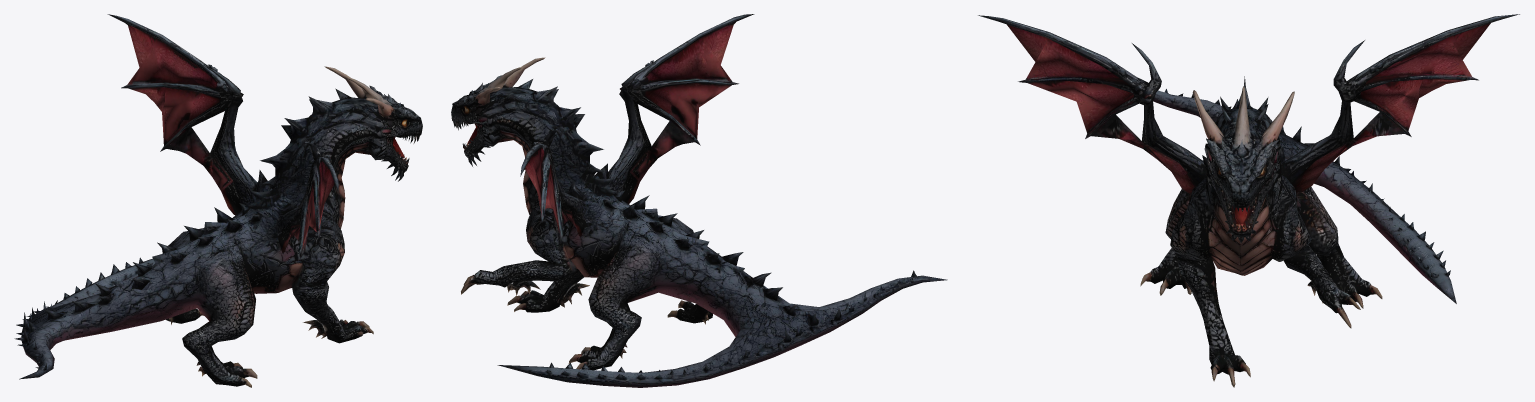
3 renders of one model, left to right at view 1: azimuth 30°, elevation 25°; view 2: azimuth 150°, elevation 25°; view 3: azimuth 270°, elevation 25°, orthographic. The views are drawn at different scales.
Visible parts, largest first — view 1: tripo_node_6a6d3a2a; view 2: tripo_node_6a6d3a2a; view 3: tripo_node_6a6d3a2a.
Part boxes in pixels (x1=…): tripo_node_6a6d3a2a: x1=14, y1=14, x2=422, y2=387; tripo_node_6a6d3a2a: x1=451, y1=14, x2=947, y2=387; tripo_node_6a6d3a2a: x1=978, y1=14, x2=1519, y2=387.
Size of the model in its own units: 0.998 by 0.541 by 0.8965.
Materials: 1 (1 with a texture image).
